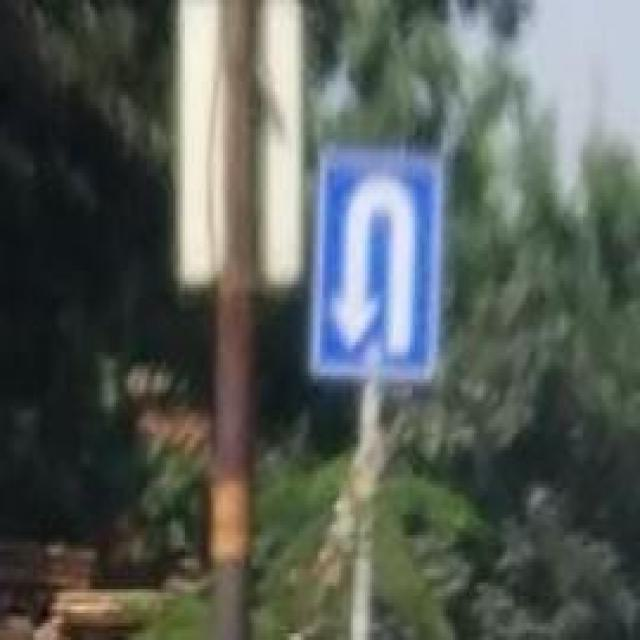U-turn: (321, 154, 434, 375)
